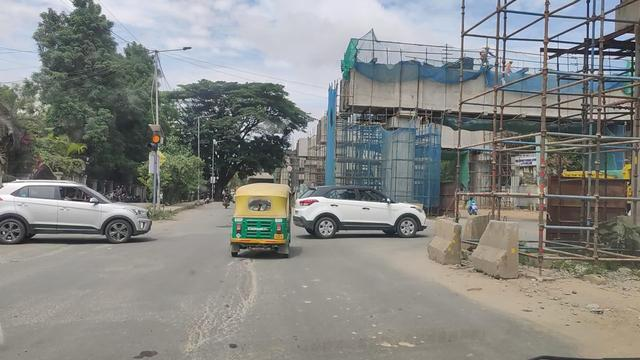LMV: (1, 182, 151, 242), (297, 187, 428, 235), (235, 182, 296, 258)
RoadDamages: (197, 257, 251, 337)
